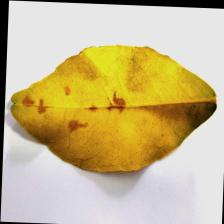canker: (20, 82, 130, 136)
